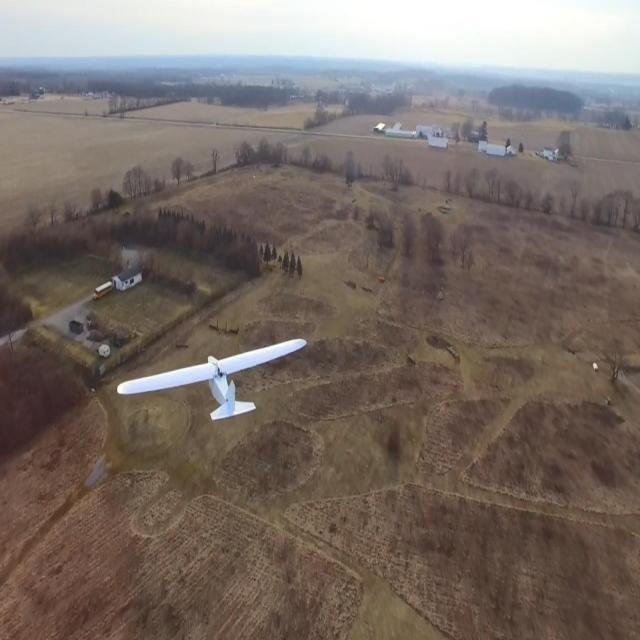iha: (115, 365, 312, 389)
